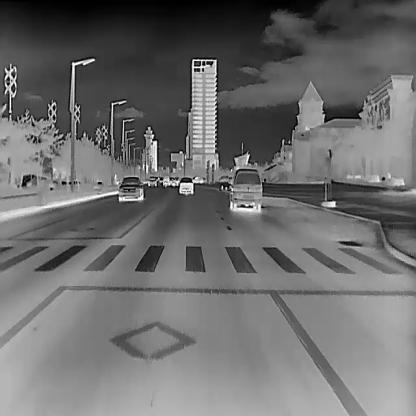car: (228, 167, 262, 211), (118, 174, 144, 202), (178, 175, 194, 194), (161, 174, 170, 186), (147, 175, 155, 187)
